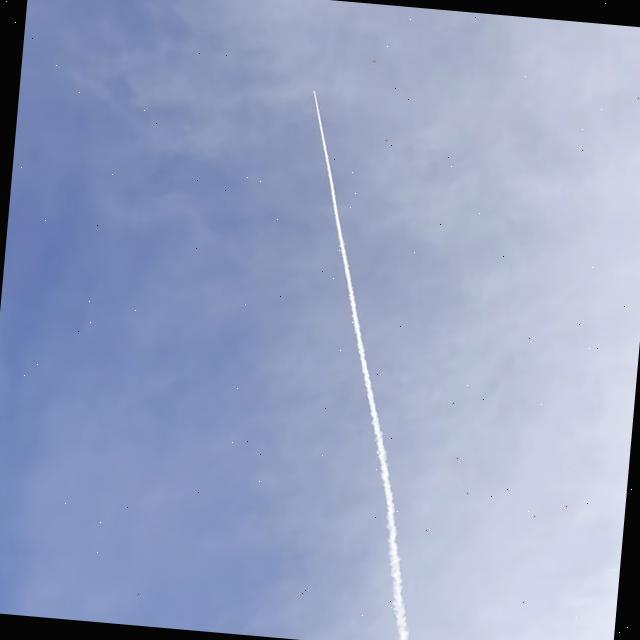smoke_trail_no_rocket: (312, 90, 408, 640)
